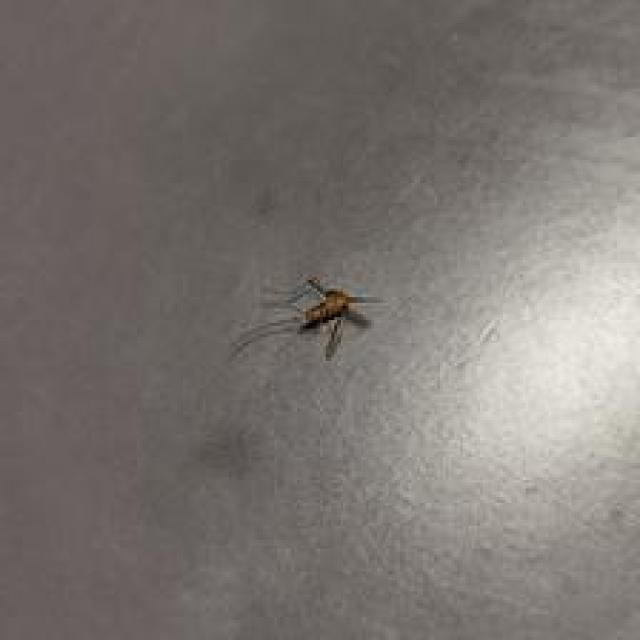Culex: (228, 271, 386, 363)
